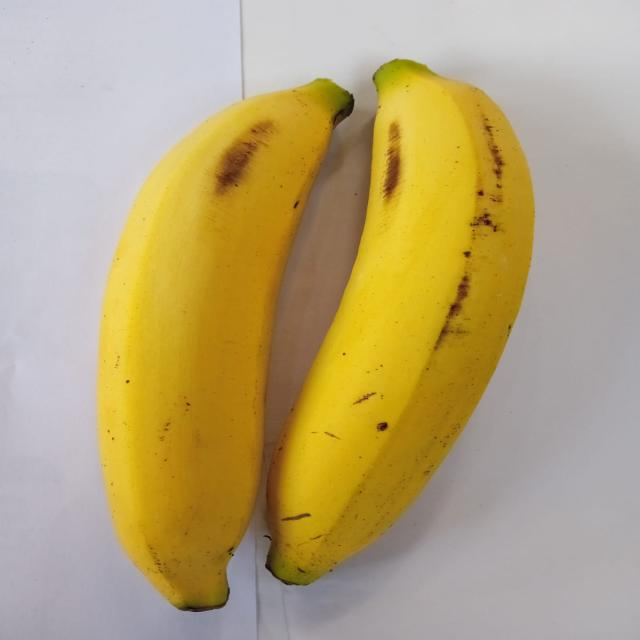banana: (268, 60, 533, 584), (98, 80, 353, 610)
